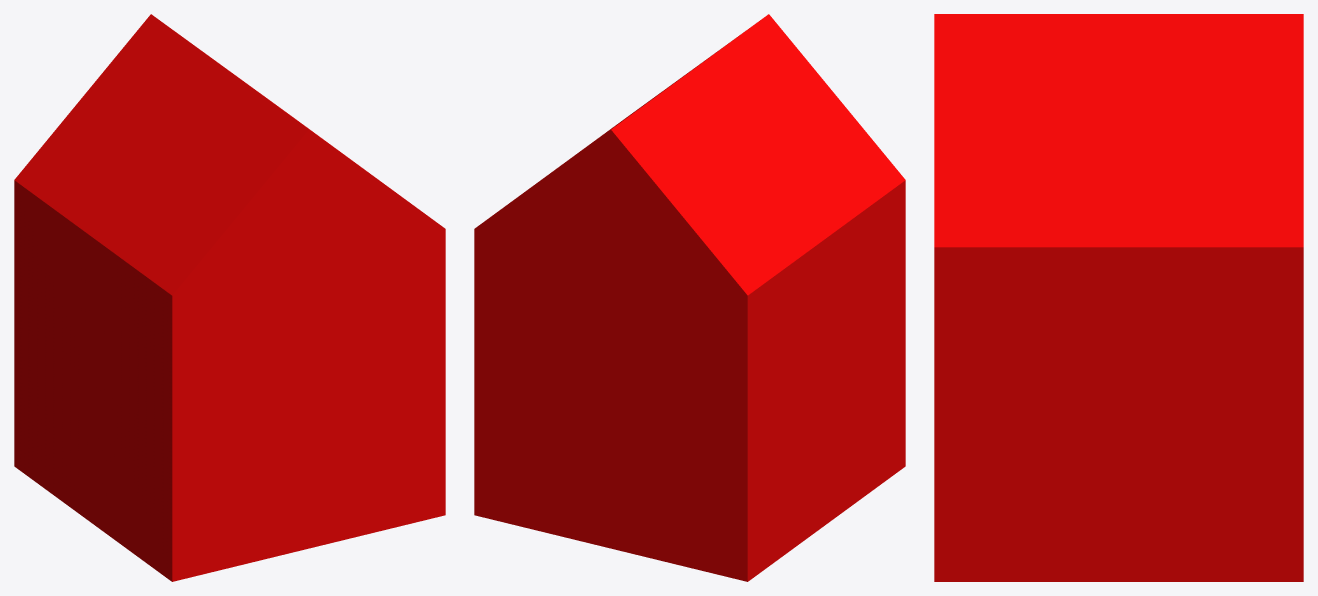
Rendered from add_2.gltf.
3 views of the same model, side by side, from view 1: azimuth 30°, elevation 25°; view 2: azimuth 150°, elevation 25°; view 3: azimuth 270°, elevation 25° (orthographic). The views are drawn at different scales.
Visible parts, largest first — view 1: TransformZUpToYUp; view 2: TransformZUpToYUp; view 3: TransformZUpToYUp.
Part boxes in pixels (x1,y1,x2,y2): TransformZUpToYUp: [14, 14, 445, 581]; TransformZUpToYUp: [474, 14, 905, 581]; TransformZUpToYUp: [934, 14, 1303, 581].
Bounding box in the file's own units: 25 × 36.59 × 25.
